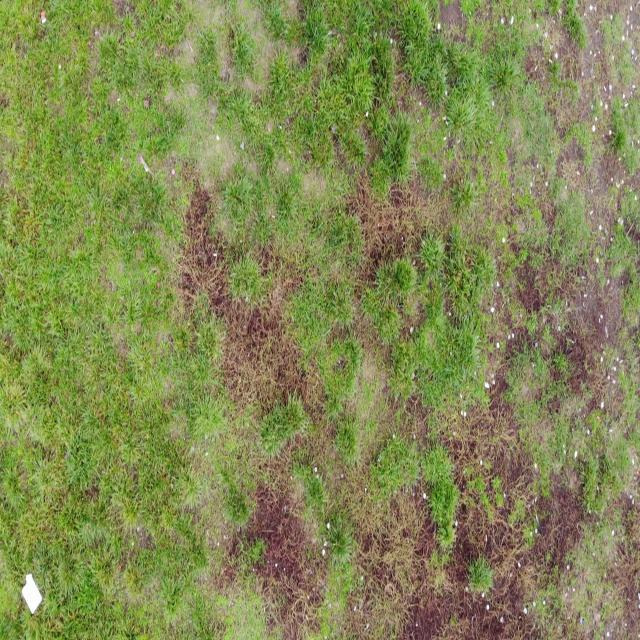rubbish: (21, 571, 44, 615)
